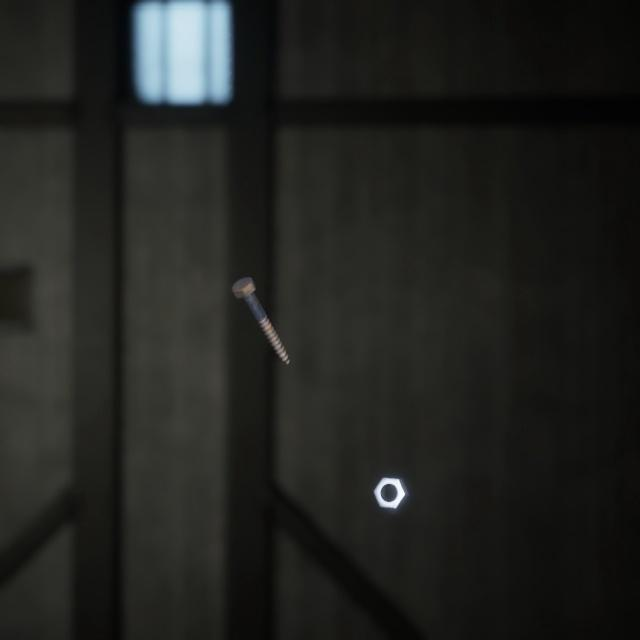bolt: (227, 254, 294, 351)
nut: (369, 452, 413, 492)
